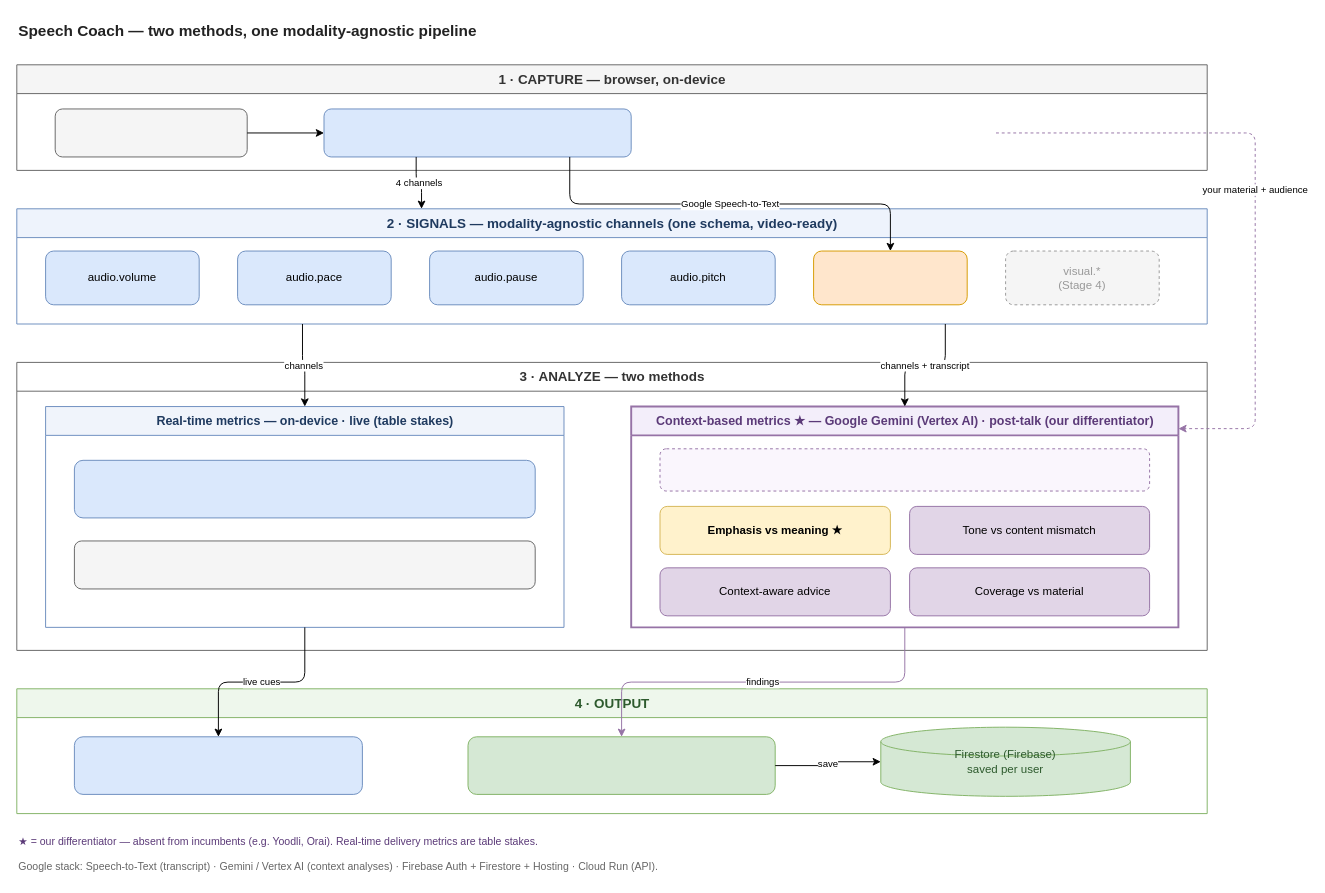
Image size: 1325x893. Some labels were removed from this diagram. The shapes that lost their labels are listed below. From the top down, each one's centre as x and y in pixels, then its label:
At point 150,132: "Microphone (getUserMedia)".
At point 477,132: "Web Audio → live signals + MediaRecorder → audio clip".
At point 890,277: "transcript (Google Speech-to-Text)".
At point 304,488: "Live meters pace · pitch · volume · dead-air".
At point 904,469: "Grounded in: transcript + your material + audience & setting".
At point 304,564: "One calm nudge".
At point 217,765: "Live Dashboard (during the talk)".
At point 621,765: "Coaching Report ★ (after you stop — incl. your live delivery stats)".
